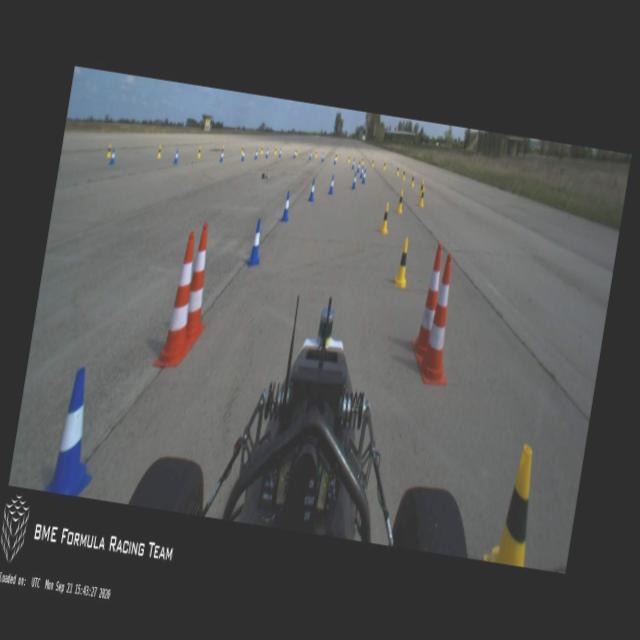blue_cone: (44, 364, 109, 498), (246, 218, 266, 268), (280, 192, 292, 224), (308, 178, 316, 204), (328, 174, 336, 194), (108, 147, 116, 166), (351, 171, 358, 190), (173, 149, 179, 165), (362, 168, 367, 184), (241, 148, 246, 162), (356, 160, 361, 173), (360, 166, 364, 179), (220, 150, 224, 163), (254, 148, 258, 160), (265, 147, 269, 158), (309, 150, 312, 160), (352, 159, 355, 168), (279, 147, 282, 156), (293, 150, 296, 158), (322, 152, 324, 162), (334, 156, 336, 165)
large_orange_cone: (152, 230, 208, 372), (416, 252, 466, 384), (176, 222, 222, 346), (408, 240, 448, 359)
yellow_cone: (482, 441, 542, 566), (393, 238, 413, 288), (379, 202, 392, 234), (396, 188, 405, 212), (418, 186, 426, 208), (156, 144, 164, 160), (418, 178, 424, 198), (106, 143, 112, 159), (410, 172, 416, 188), (197, 146, 202, 158), (402, 168, 406, 181), (382, 160, 387, 170), (396, 165, 400, 176), (260, 146, 264, 154), (274, 146, 277, 154), (335, 152, 338, 160), (361, 156, 364, 164), (372, 158, 375, 166), (242, 144, 244, 154), (296, 147, 298, 156), (348, 154, 350, 162), (315, 152, 317, 158)
